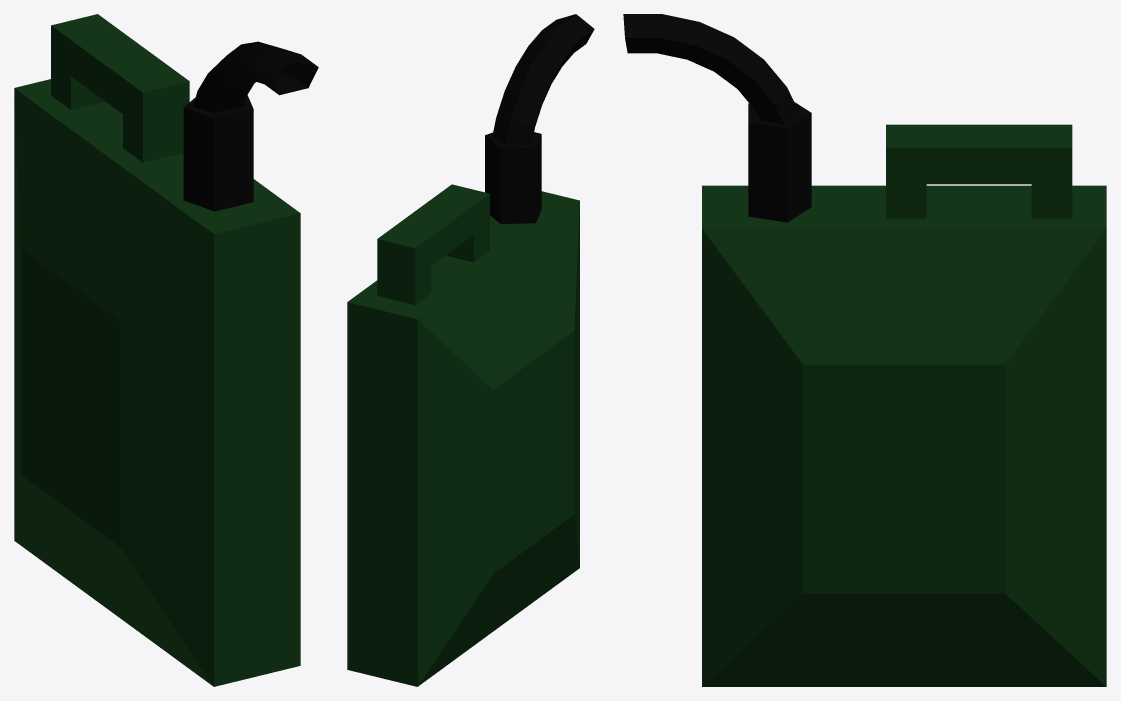
The model's file is fuel.gltf.
3 renders of one model, left to right at view 1: azimuth 30°, elevation 25°; view 2: azimuth 150°, elevation 25°; view 3: azimuth 270°, elevation 25°, orthographic. The views are drawn at different scales.
Visible parts, largest first — view 1: Cube, Cube.003, Cylinder, Torus, Cube.001, Cube.002; view 2: Cube, Cube.003, Torus, Cylinder, Cube.002, Cube.001; view 3: Cube, Cube.003, Torus, Cylinder, Cube.002, Cube.001.
Boxes of the visible parts, x1=… form: Cube: x1=14, y1=79, x2=300, y2=686; Cube.003: x1=51, y1=14, x2=189, y2=128; Cylinder: x1=183, y1=95, x2=253, y2=211; Torus: x1=193, y1=41, x2=318, y2=112; Cube.001: x1=123, y1=114, x2=183, y2=162; Cube.002: x1=51, y1=62, x2=105, y2=109; Cube: x1=347, y1=191, x2=579, y2=686; Cube.003: x1=377, y1=184, x2=489, y2=277; Torus: x1=492, y1=14, x2=594, y2=145; Cylinder: x1=485, y1=132, x2=541, y2=223; Cube.002: x1=377, y1=266, x2=431, y2=304; Cube.001: x1=445, y1=223, x2=489, y2=262; Cube: x1=702, y1=185, x2=1106, y2=686; Cube.003: x1=886, y1=124, x2=1072, y2=184; Torus: x1=623, y1=14, x2=799, y2=124; Cylinder: x1=748, y1=102, x2=811, y2=222; Cube.002: x1=1031, y1=184, x2=1072, y2=218; Cube.001: x1=886, y1=184, x2=926, y2=218.
Size of the model in its own units: 0.8 by 2.84 by 1.91.
